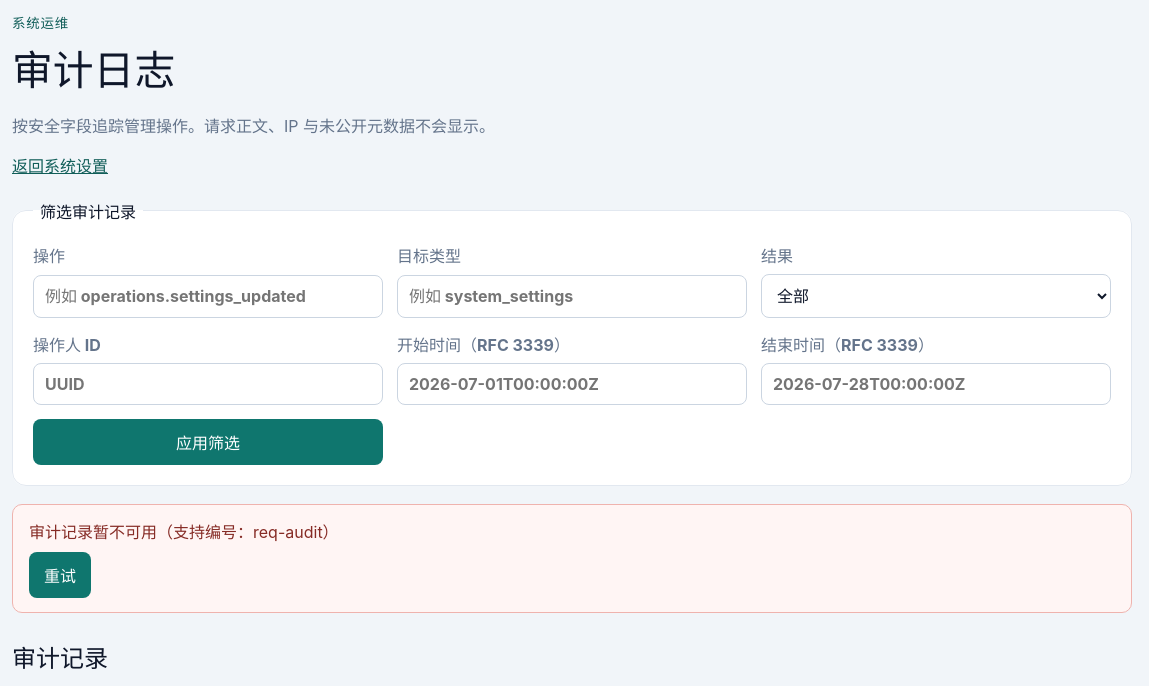
Test: AuditView › shows request IDs and restores keyboard focus after retry
expect the message "审计记录暂不可用（支持编号：req-audit） 重试" is shown: met, box [12,504,1132,613]
Click the button with test id "audit-retry" at (60, 575), box [29,552,91,598]
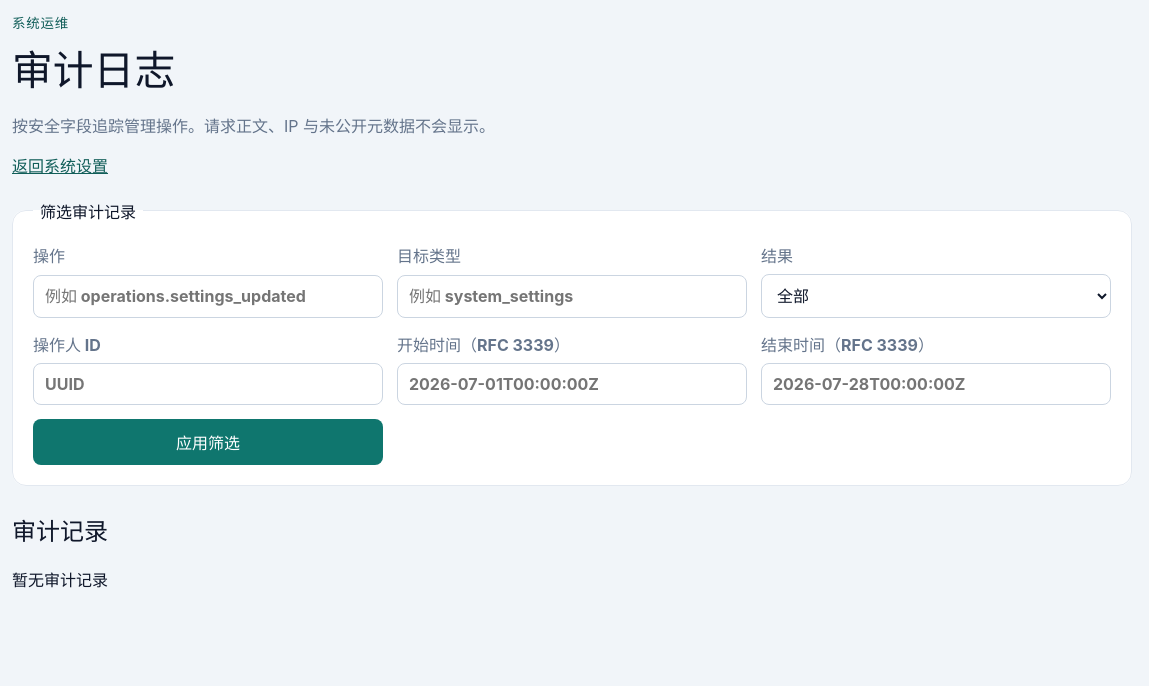
expect the text "暂无审计记录" is shown: met, box [12,570,108,590]
